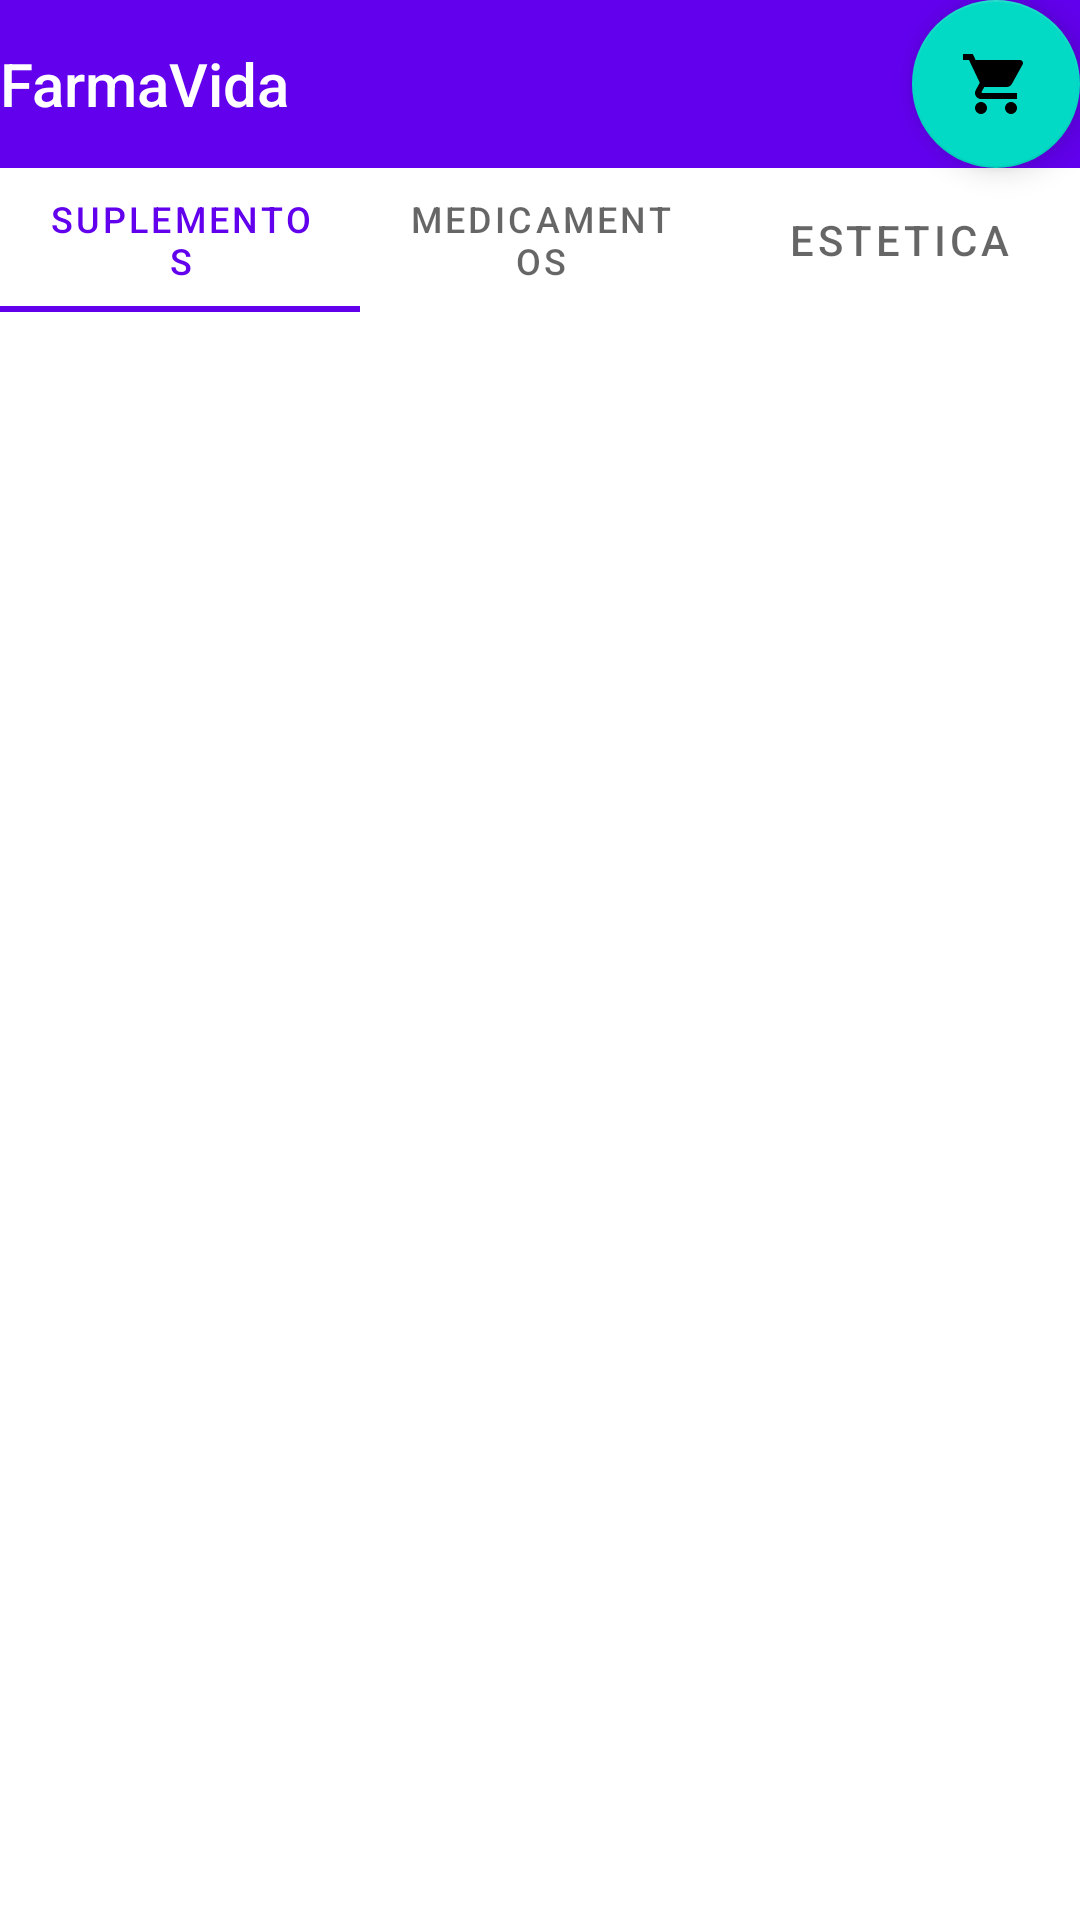

Point at icon controls on the screen. Image size 1080x1920, points as [x,y].
shopping cart: [996,84]
